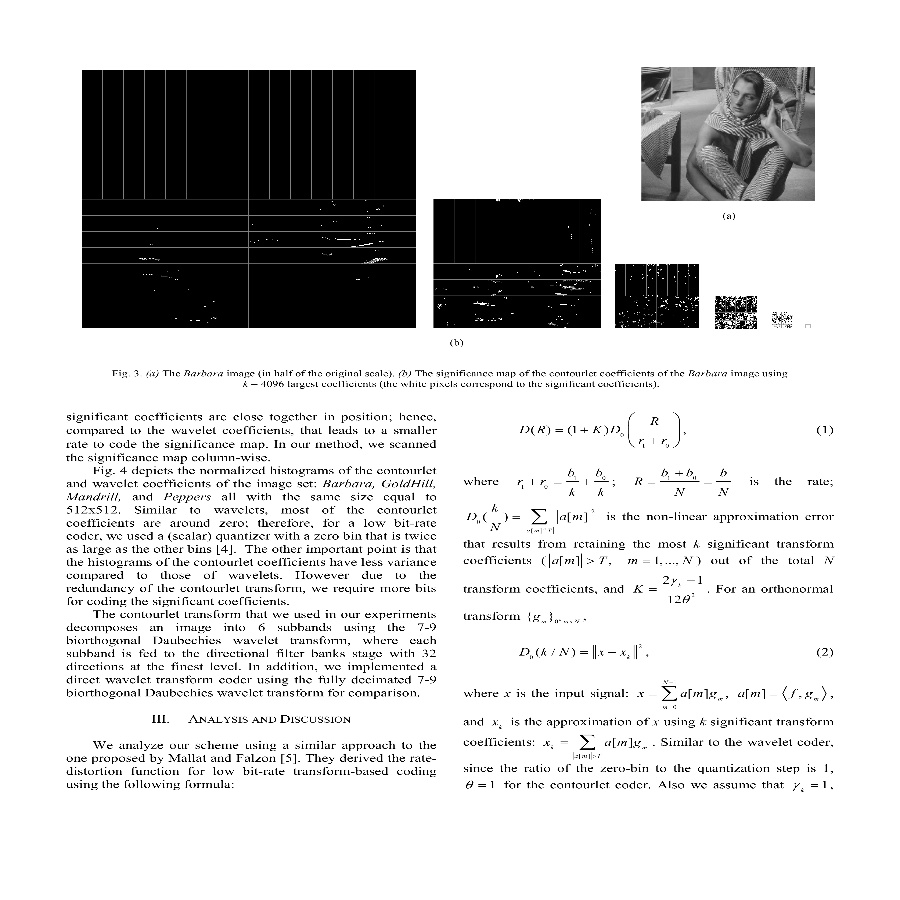eq: (518, 408, 681, 454), (465, 500, 598, 537), (515, 638, 643, 665)
